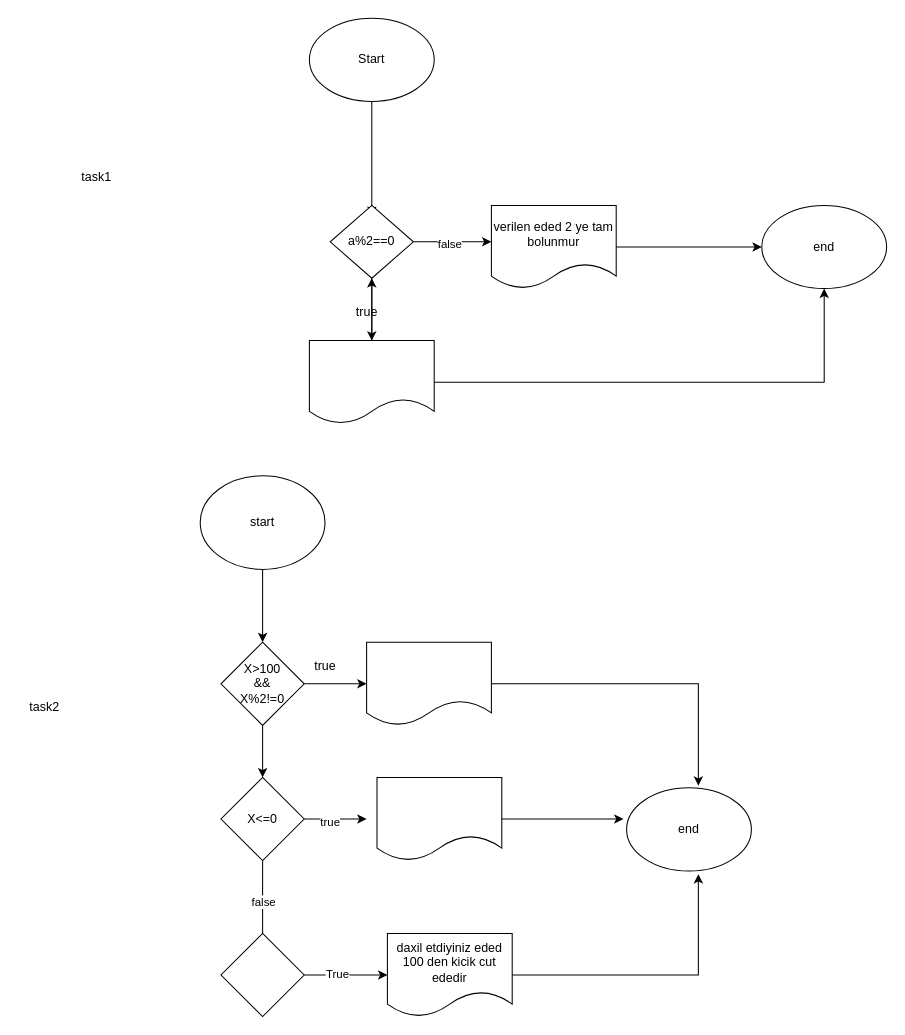
The diagram is 905 pixels wide and 1035 high, and some of its shapes have lost their labels. Each missing label, with the centre of its shape:
daxil etdiyiniz eded 100 den boyuk tek ededdir: point 428,683
duzgun eded daxil edin: point 439,818
Verilen eded cutdur 2 ye tam bolunur: point 371,382
x<100 && x%2==0: point 262,974
